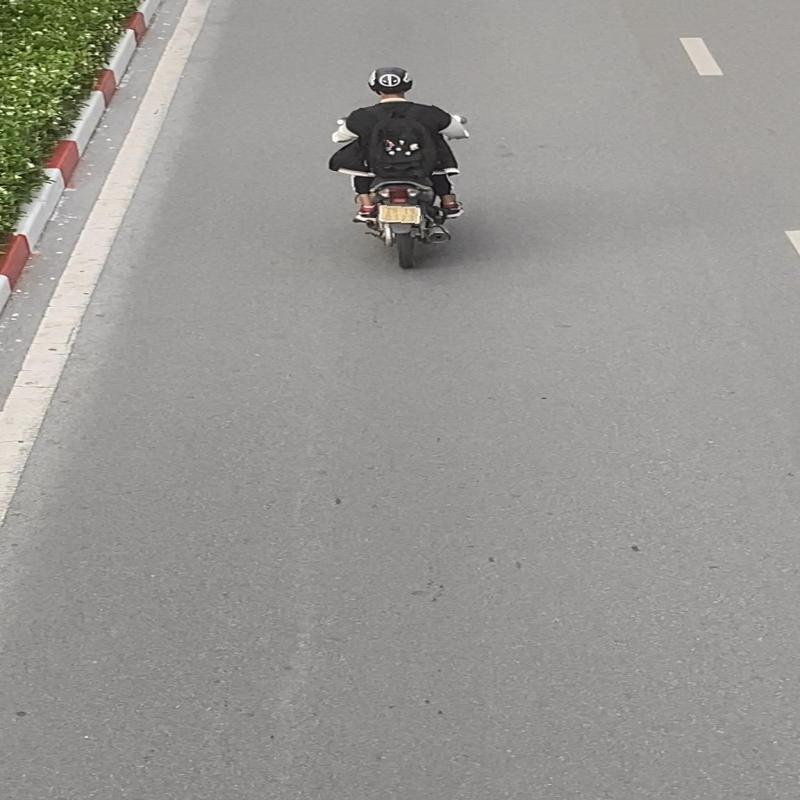helmet: (368, 68, 418, 98)
licenseplate: (377, 204, 424, 226)
motorcyclist: (322, 67, 486, 274)
